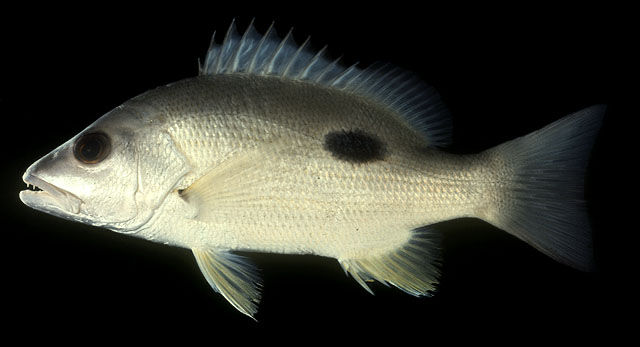fish: (19, 20, 595, 322)
